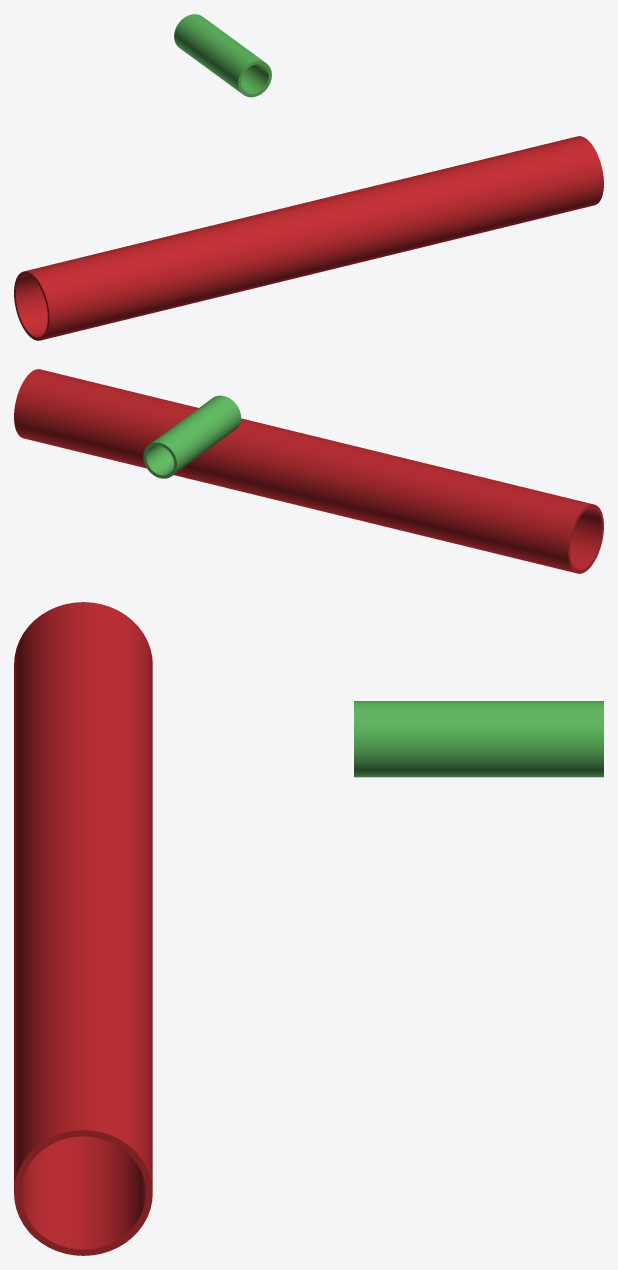
File: steam_distribution_header_pressure.glb
The picture shows the model from 3 angles, top to bottom: view 1: azimuth 30°, elevation 25°; view 2: azimuth 150°, elevation 25°; view 3: azimuth 270°, elevation 25°; orthographic projection. The views are drawn at different scales.
Parts seen in each view (by area): view 1: pressure__front, pressure__back; view 2: pressure__back, pressure__front; view 3: pressure__back, pressure__front.
Boxes of the visible parts, x1,y1,x2,y2 form: pressure__front: (31,138,603,340); pressure__back: (14,14,585,337); pressure__back: (14,371,586,573); pressure__front: (32,369,603,570); pressure__back: (83,602,603,1255); pressure__front: (14,602,83,1255).
Bounding box in the file's own units: 3.6 × 0.96 × 1.7.
